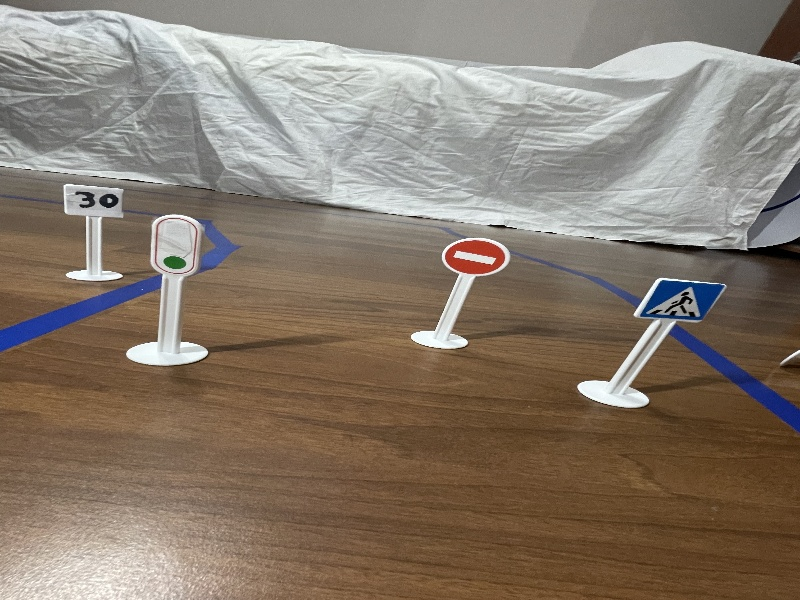interzis: (438, 231, 514, 286)
semafor_verde: (145, 206, 209, 283)
trecere_pietoni: (632, 266, 727, 335)
viteza_limita_30: (53, 170, 134, 234)
